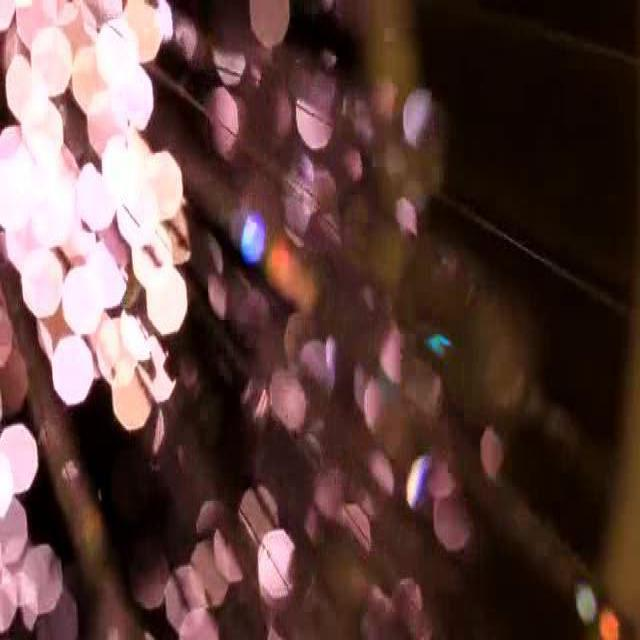other: (2, 6, 305, 612)
